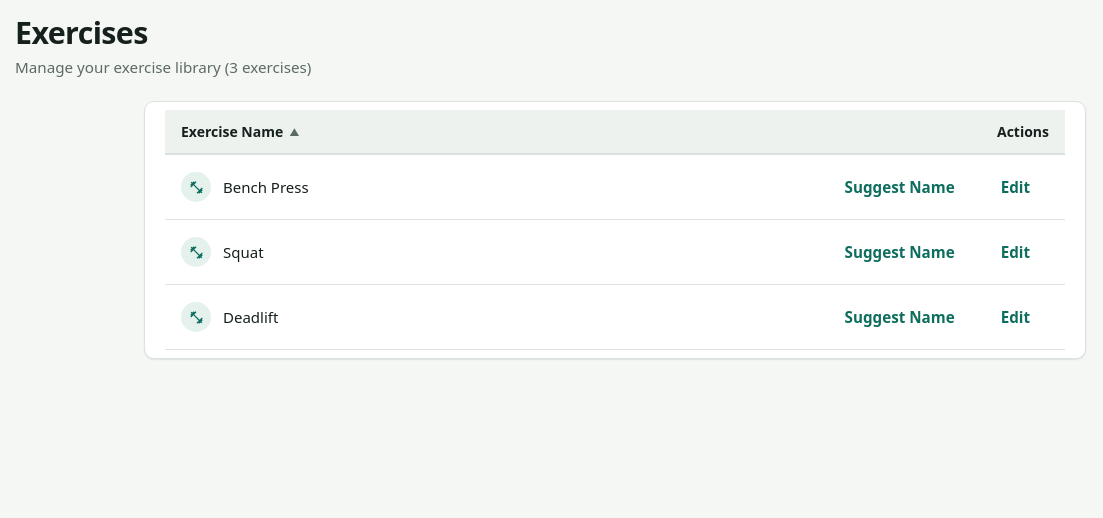
Scenario: ExerciseListPage - Table Layout › Edit Functionality › enters edit mode with selected suggestion when clicking a suggestion
Expected: the text "Bench Press" is shown, [181,172,309,202]
Click the button named "suggest name for bench press". click: (900, 187)
box: [826,167,974,207]
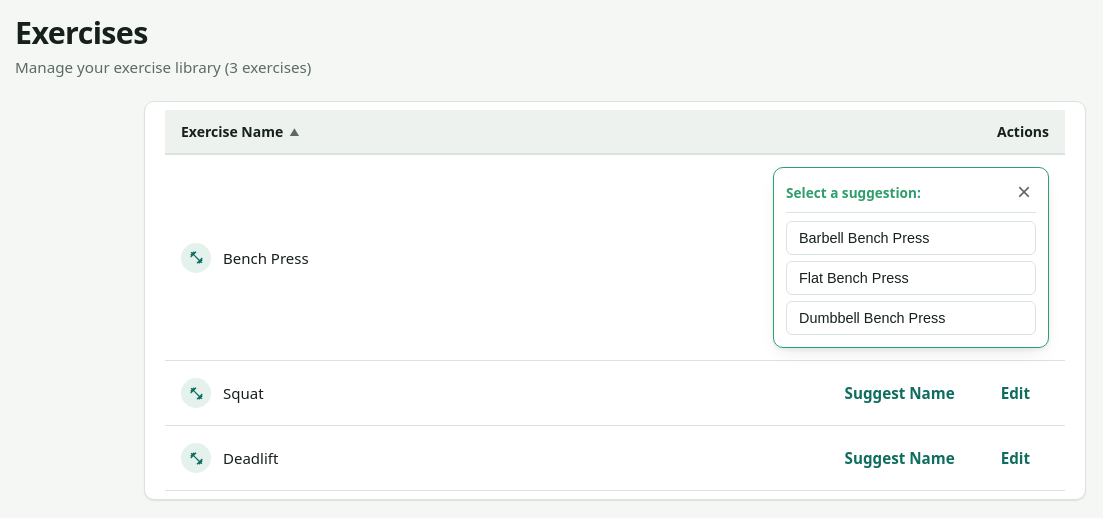
Expected: the button "Barbell Bench Press" is shown, [786,221,1036,255]
# Click on a suggestion
Click the button "Flat Bench Press". click: (911, 278)
box: [786,261,1036,295]
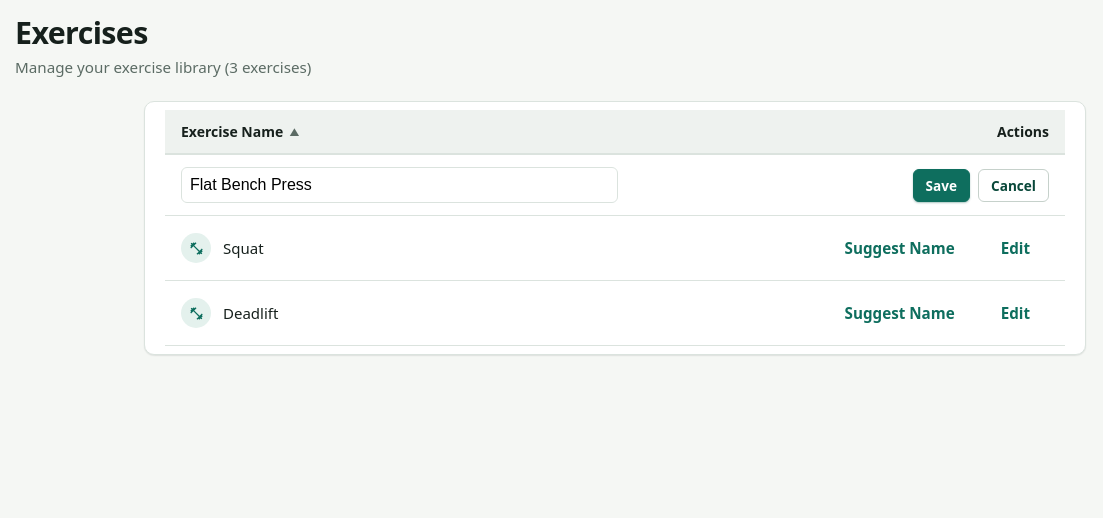
Expected: the field showing "Flat Bench Press" is shown, [181,167,618,203]
Expected: the button "Save" is shown, [912,168,970,202]
Expected: the button "Cancel" is shown, [978,168,1049,202]
